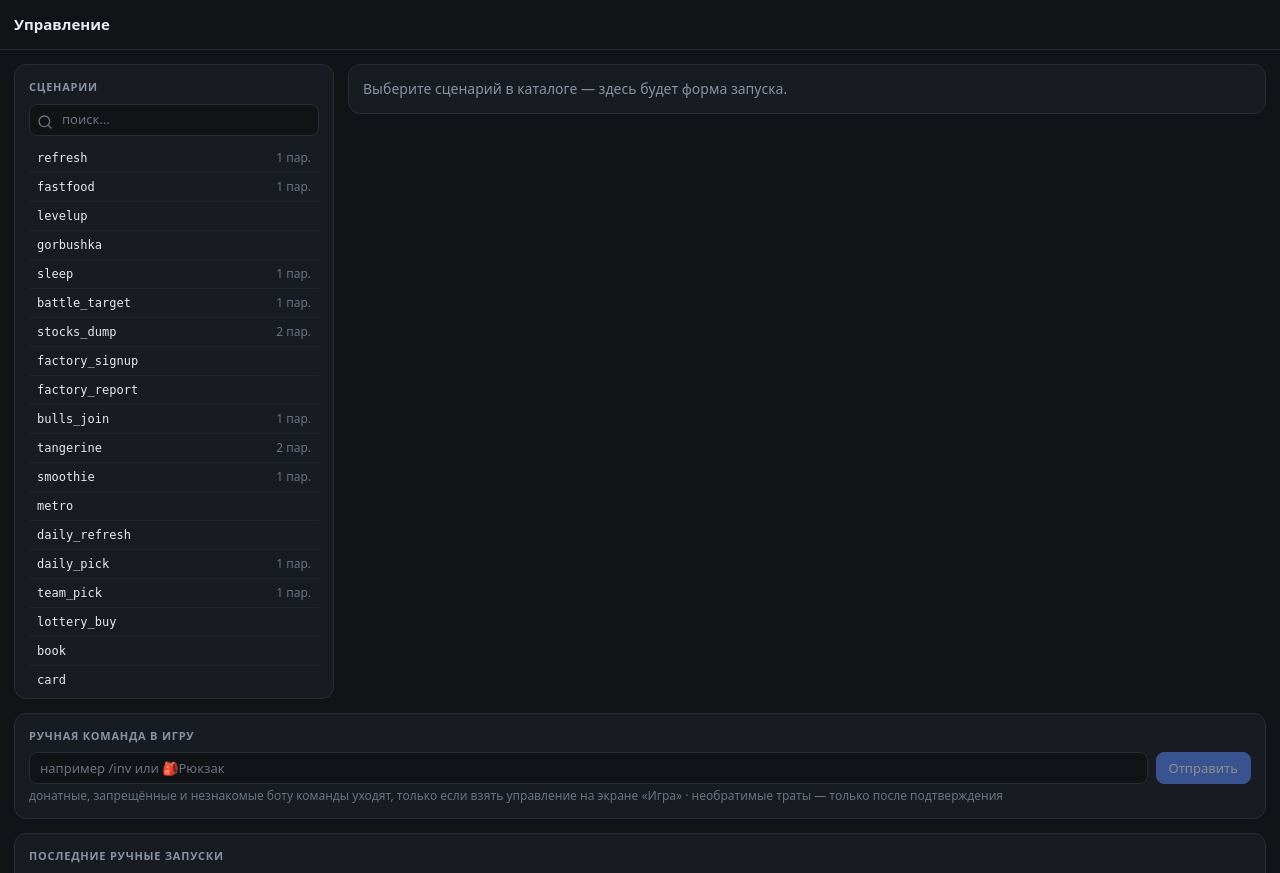
Test: Управление › ручная risky-команда: окно подтверждения и повтор с токеном
This screenshot has width=1280, height=873.
Type "/sells_piper_80" into the field named "Команда". click: (588, 768)
box: [29,752,1148,784]
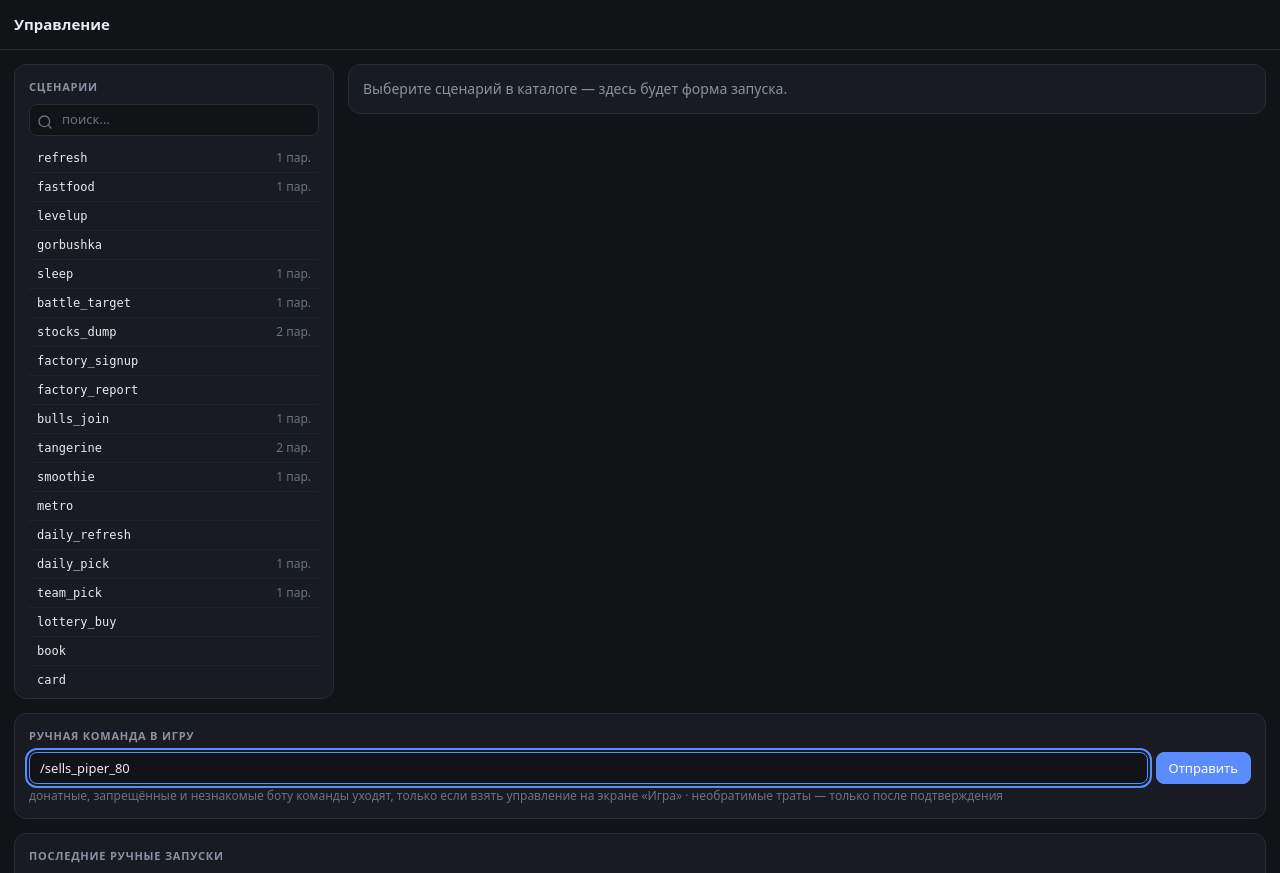
Click the button "Отправить". click: click(1203, 768)
box: [1156,752,1251,784]
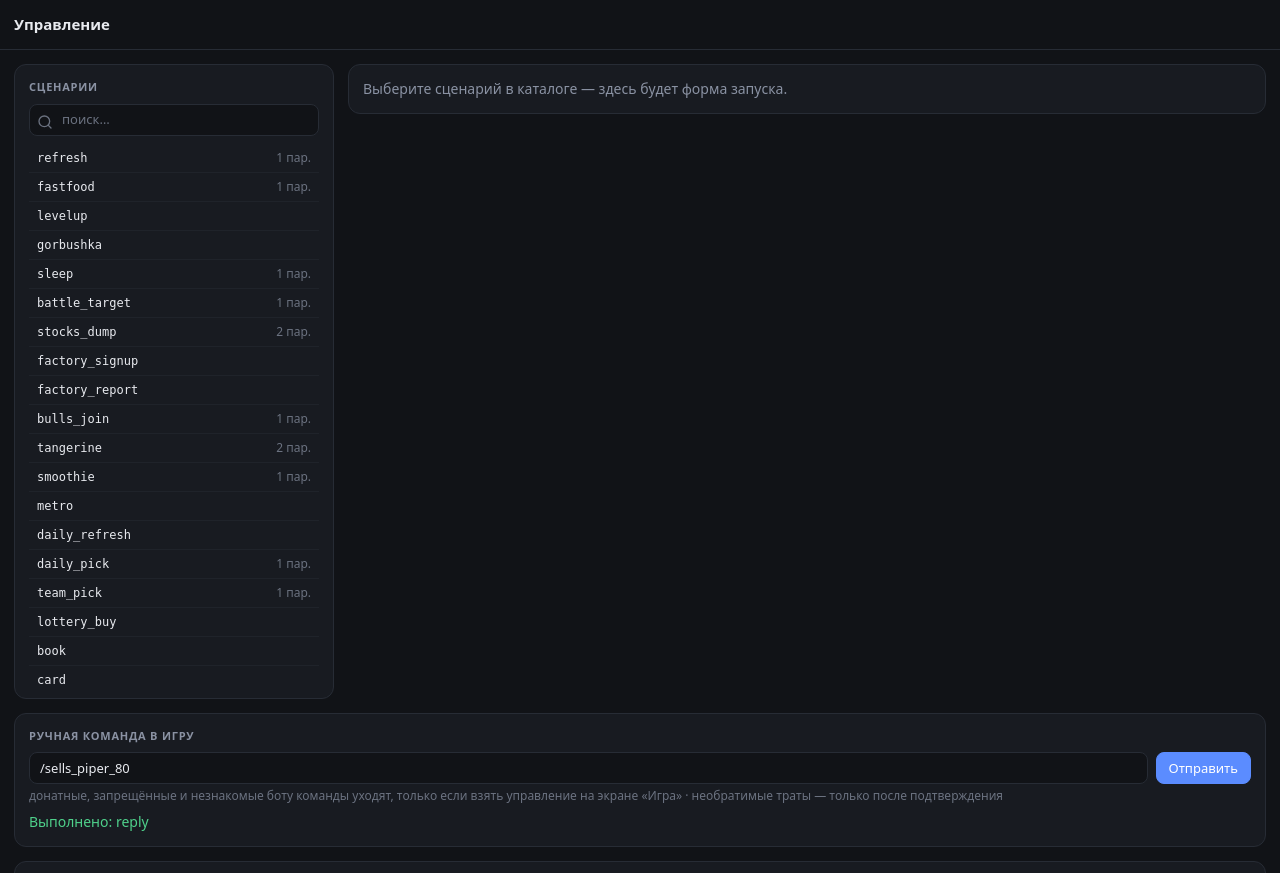
expect the text "Выполнено: reply" is shown: met, box [29,812,149,831]
